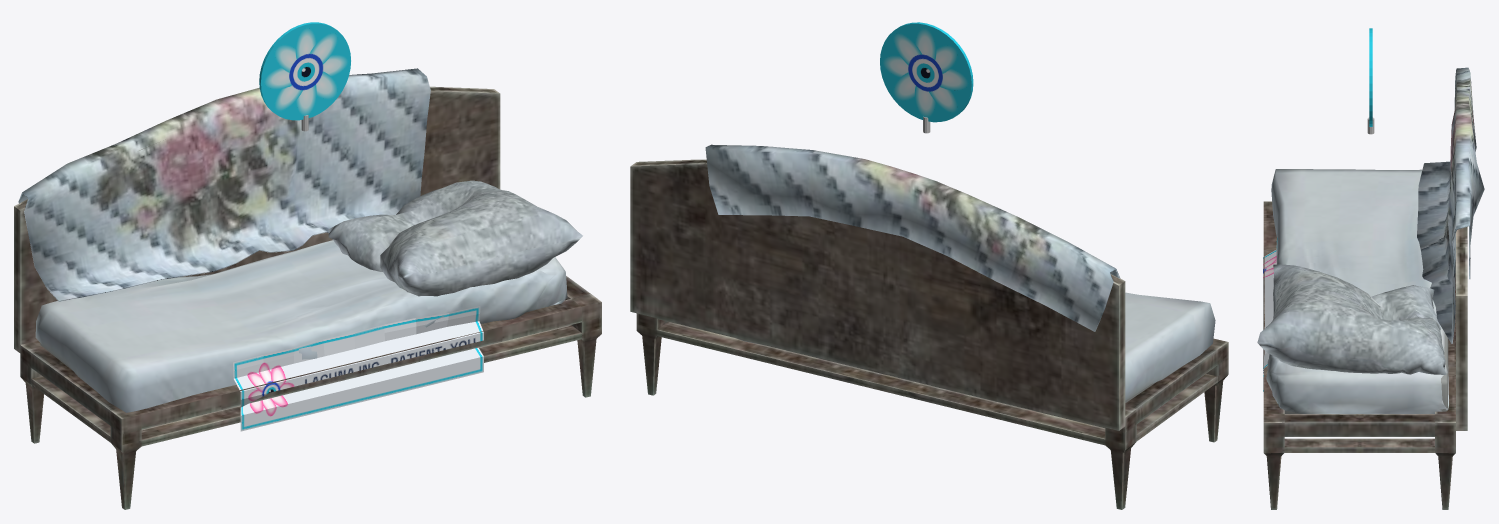
Rendered from nyb_eternal_bed.glb.
The picture shows the model from 3 angles, left to right: view 1: azimuth 30°, elevation 25°; view 2: azimuth 150°, elevation 25°; view 3: azimuth 270°, elevation 25°; orthographic projection. The views are drawn at different scales.
Visible parts, largest first — view 1: vintage_day_bed, stk_lbl_fd35afeafc.png, add_eyeflower_cyan.png, Cylinder; view 2: vintage_day_bed, add_eyeflower_cyan.png, Cylinder; view 3: vintage_day_bed, stk_lbl_fd35afeafc.png, Cylinder.
Part boxes in pixels (left/top/right/bottom): vintage_day_bed: left=14, top=68, right=601, bottom=509; stk_lbl_fd35afeafc.png: left=233, top=306, right=483, bottom=431; add_eyeflower_cyan.png: left=264, top=27, right=348, bottom=116; Cylinder: left=259, top=22, right=350, bottom=120; vintage_day_bed: left=630, top=144, right=1228, bottom=509; add_eyeflower_cyan.png: left=882, top=28, right=968, bottom=117; Cylinder: left=880, top=22, right=973, bottom=122; vintage_day_bed: left=1257, top=67, right=1484, bottom=509; stk_lbl_fd35afeafc.png: left=1263, top=237, right=1277, bottom=391; Cylinder: left=1369, top=28, right=1372, bottom=126.
Size of the model in its own units: 1.97 by 1.53 by 0.8547.
Materials: 5 (3 with a texture image).
